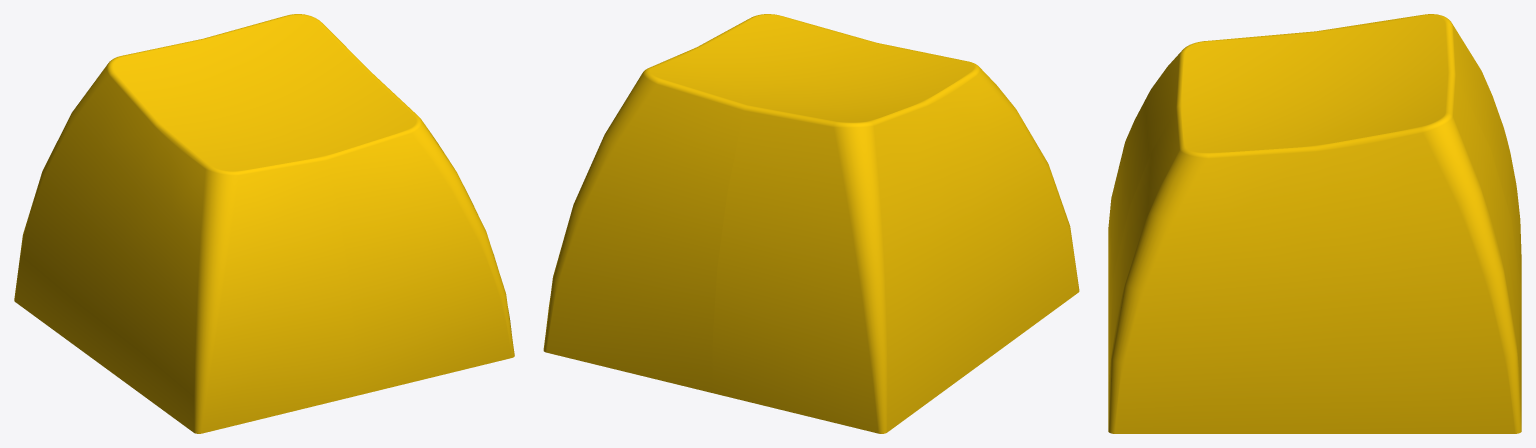
Rendered from KAT_1u_r0.glb.
3 views of the same model, side by side, from view 1: azimuth 30°, elevation 25°; view 2: azimuth 150°, elevation 25°; view 3: azimuth 270°, elevation 25° (orthographic). The views are drawn at different scales.
Visible parts, largest first — view 1: Object.002; view 2: Object.002; view 3: Object.002.
Boxes of the visible parts, bbox=[...] form: Object.002: bbox=[14, 14, 514, 433]; Object.002: bbox=[543, 14, 1079, 433]; Object.002: bbox=[1108, 14, 1521, 433].
Size of the model in its own units: 18.21 by 13.54 by 18.2.
